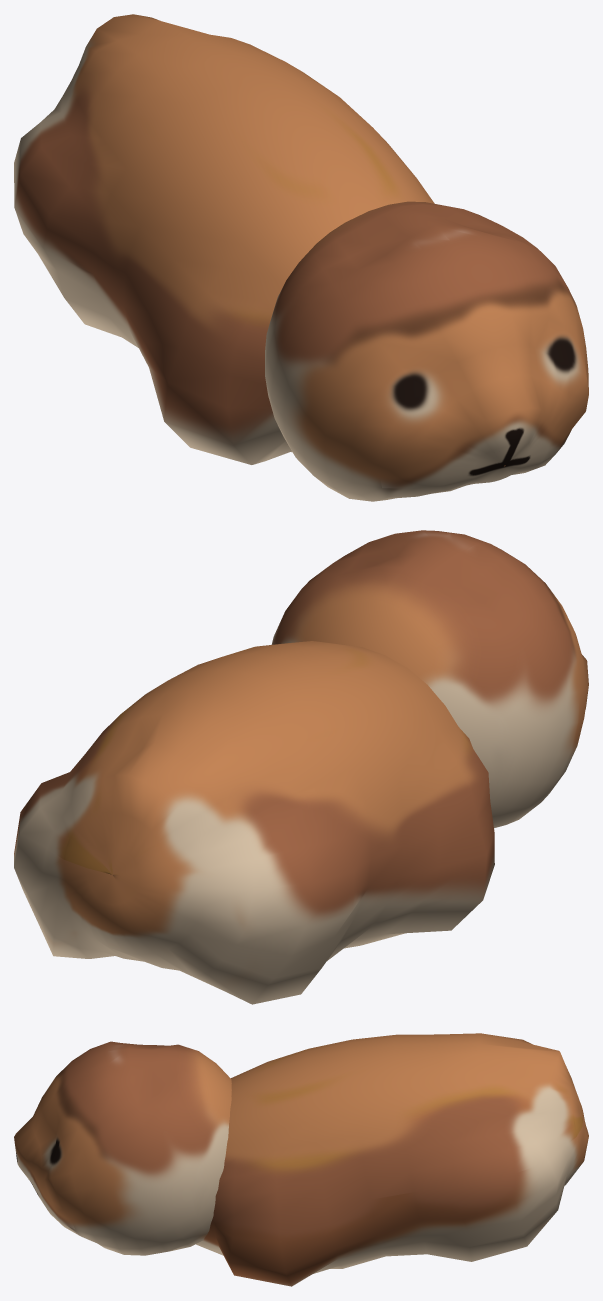
Rendered from pika.gltf.
3 renders of one model, top to bottom at view 1: azimuth 30°, elevation 25°; view 2: azimuth 150°, elevation 25°; view 3: azimuth 270°, elevation 25°, orthographic. The views are drawn at different scales.
Parts seen in each view (by area): view 1: Long Body, Head; view 2: Long Body, Head; view 3: Long Body, Head.
Part boxes in pixels (left/top/right/bottom): Long Body: left=14, top=14, right=434, bottom=464; Head: left=265, top=201, right=588, bottom=501; Long Body: left=14, top=641, right=494, bottom=1004; Head: left=271, top=530, right=588, bottom=828; Long Body: left=195, top=1033, right=588, bottom=1286; Head: left=14, top=1041, right=231, bottom=1255.
Bounding box in the file's own units: 0.114 × 0.0981 × 0.2529.
2 materials, 2 textured.
